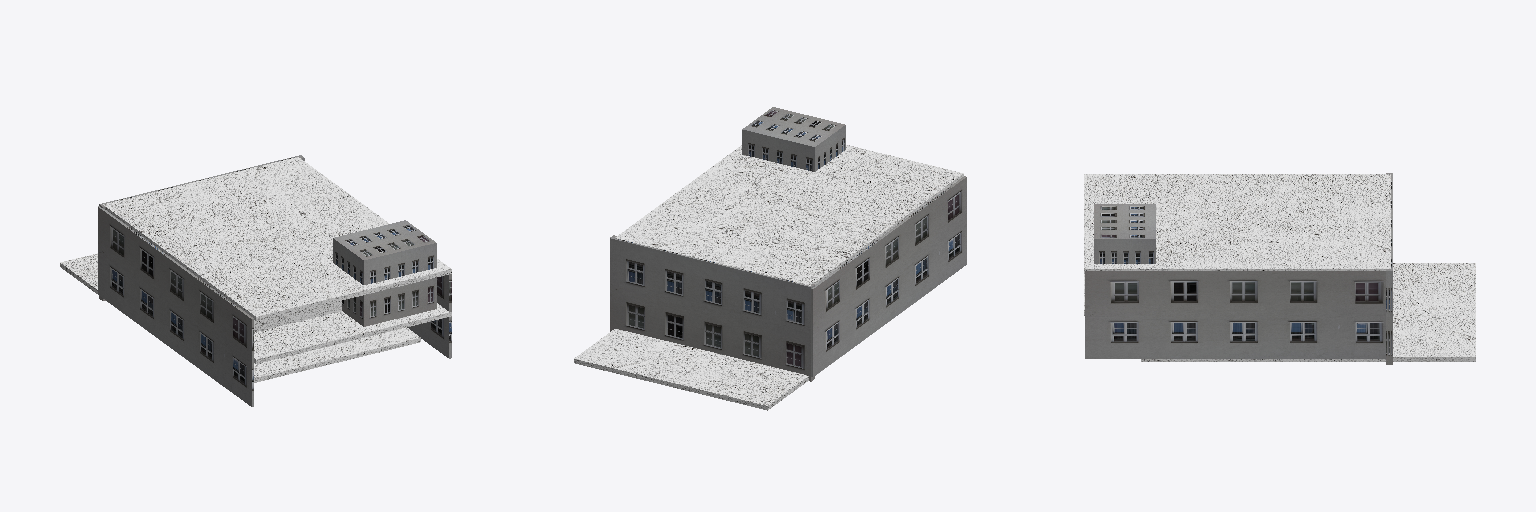
3 views of the same model, side by side, from view 1: azimuth 30°, elevation 25°; view 2: azimuth 150°, elevation 25°; view 3: azimuth 270°, elevation 25° (orthographic).
Visible parts, largest first — view 1: Box046, Box048, Box047, Box045, Box049, Box052, Box050; view 2: Box046, Box051, Box048, Box052, Box047, Box049; view 3: Box050, Box046, Box052, Box047, Box049, Box051.
Boxes of the visible parts, <box> form: Box046: <box>103,157,451,320</box>; Box048: <box>98,206,253,406</box>; Box047: <box>333,220,436,326</box>; Box045: <box>254,303,451,363</box>; Box049: <box>208,247,341,332</box>; Box052: <box>60,253,420,389</box>; Box050: <box>407,274,451,358</box>; Box046: <box>615,145,963,285</box>; Box051: <box>610,235,814,381</box>; Box048: <box>811,176,966,376</box>; Box052: <box>574,288,934,410</box>; Box047: <box>742,107,845,171</box>; Box049: <box>793,165,926,212</box>; Box050: <box>1085,271,1385,358</box>; Box046: <box>1084,174,1390,273</box>; Box052: <box>1141,263,1475,361</box>; Box047: <box>1094,204,1155,263</box>; Box049: <box>1138,178,1198,228</box>; Box051: <box>1386,173,1392,364</box>.
Size of the model in its own units: 2.43 by 1.36 by 4.06.
Materials: 2 (2 with a texture image).